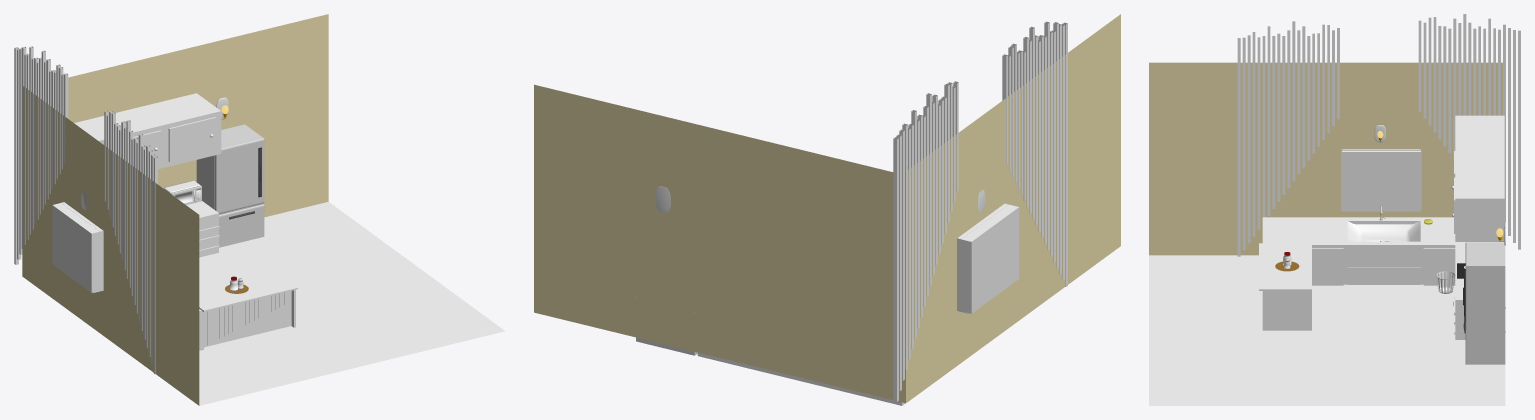
File: Kitchen 3D.glb
3 renders of one model, left to right at view 1: azimuth 30°, elevation 25°; view 2: azimuth 150°, elevation 25°; view 3: azimuth 270°, elevation 25°, orthographic. The views are drawn at different scales.
Parts seen in each view (by area): view 1: wall, Cube.003, Cube.001, fridge, UPPER CABINET, mAYO CAB, CTRL_Hole, MAYO TABLE SCULPT, BIG CABINET, MICROWAVE; view 2: wall, Cube.003, Cube.001, CTRL_Hole, BIG CABINET; view 3: wall, Cube.001, BIG CABINET, Cube.003, UPPER CABINET, fridge, CTRL_Hole, mAYO CAB, BIG CABINET .001, WASTE BIN.
Part boxes in pixels (x1,y1,x2,y2): wall: (22, 14, 505, 405); Cube.003: (14, 46, 68, 264); Cube.001: (104, 110, 157, 373); fridge: (196, 124, 264, 247); UPPER CABINET: (74, 93, 221, 169); mAYO CAB: (199, 268, 297, 350); CTRL_Hole: (52, 202, 102, 292); MAYO TABLE SCULPT: (204, 291, 290, 347); BIG CABINET: (186, 201, 219, 350); MICROWAVE: (164, 180, 201, 204); wall: (534, 14, 1120, 403); Cube.003: (893, 81, 958, 401); Cube.001: (1002, 21, 1067, 286); CTRL_Hole: (958, 203, 1019, 313); BIG CABINET: (697, 311, 957, 405); wall: (1149, 62, 1505, 405); Cube.001: (1237, 21, 1339, 256); BIG CABINET: (1262, 217, 1503, 339); Cube.003: (1418, 14, 1520, 249); UPPER CABINET: (1451, 115, 1504, 241); fridge: (1465, 242, 1505, 364); CTRL_Hole: (1342, 149, 1420, 211); mAYO CAB: (1259, 243, 1311, 330); BIG CABINET .001: (1347, 221, 1420, 241); WASTE BIN: (1436, 271, 1455, 293).
Bounding box in the file's own units: 86.77 × 63.27 × 87.15.
